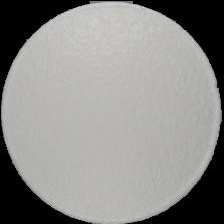76413-130: (0, 0, 224, 224)
